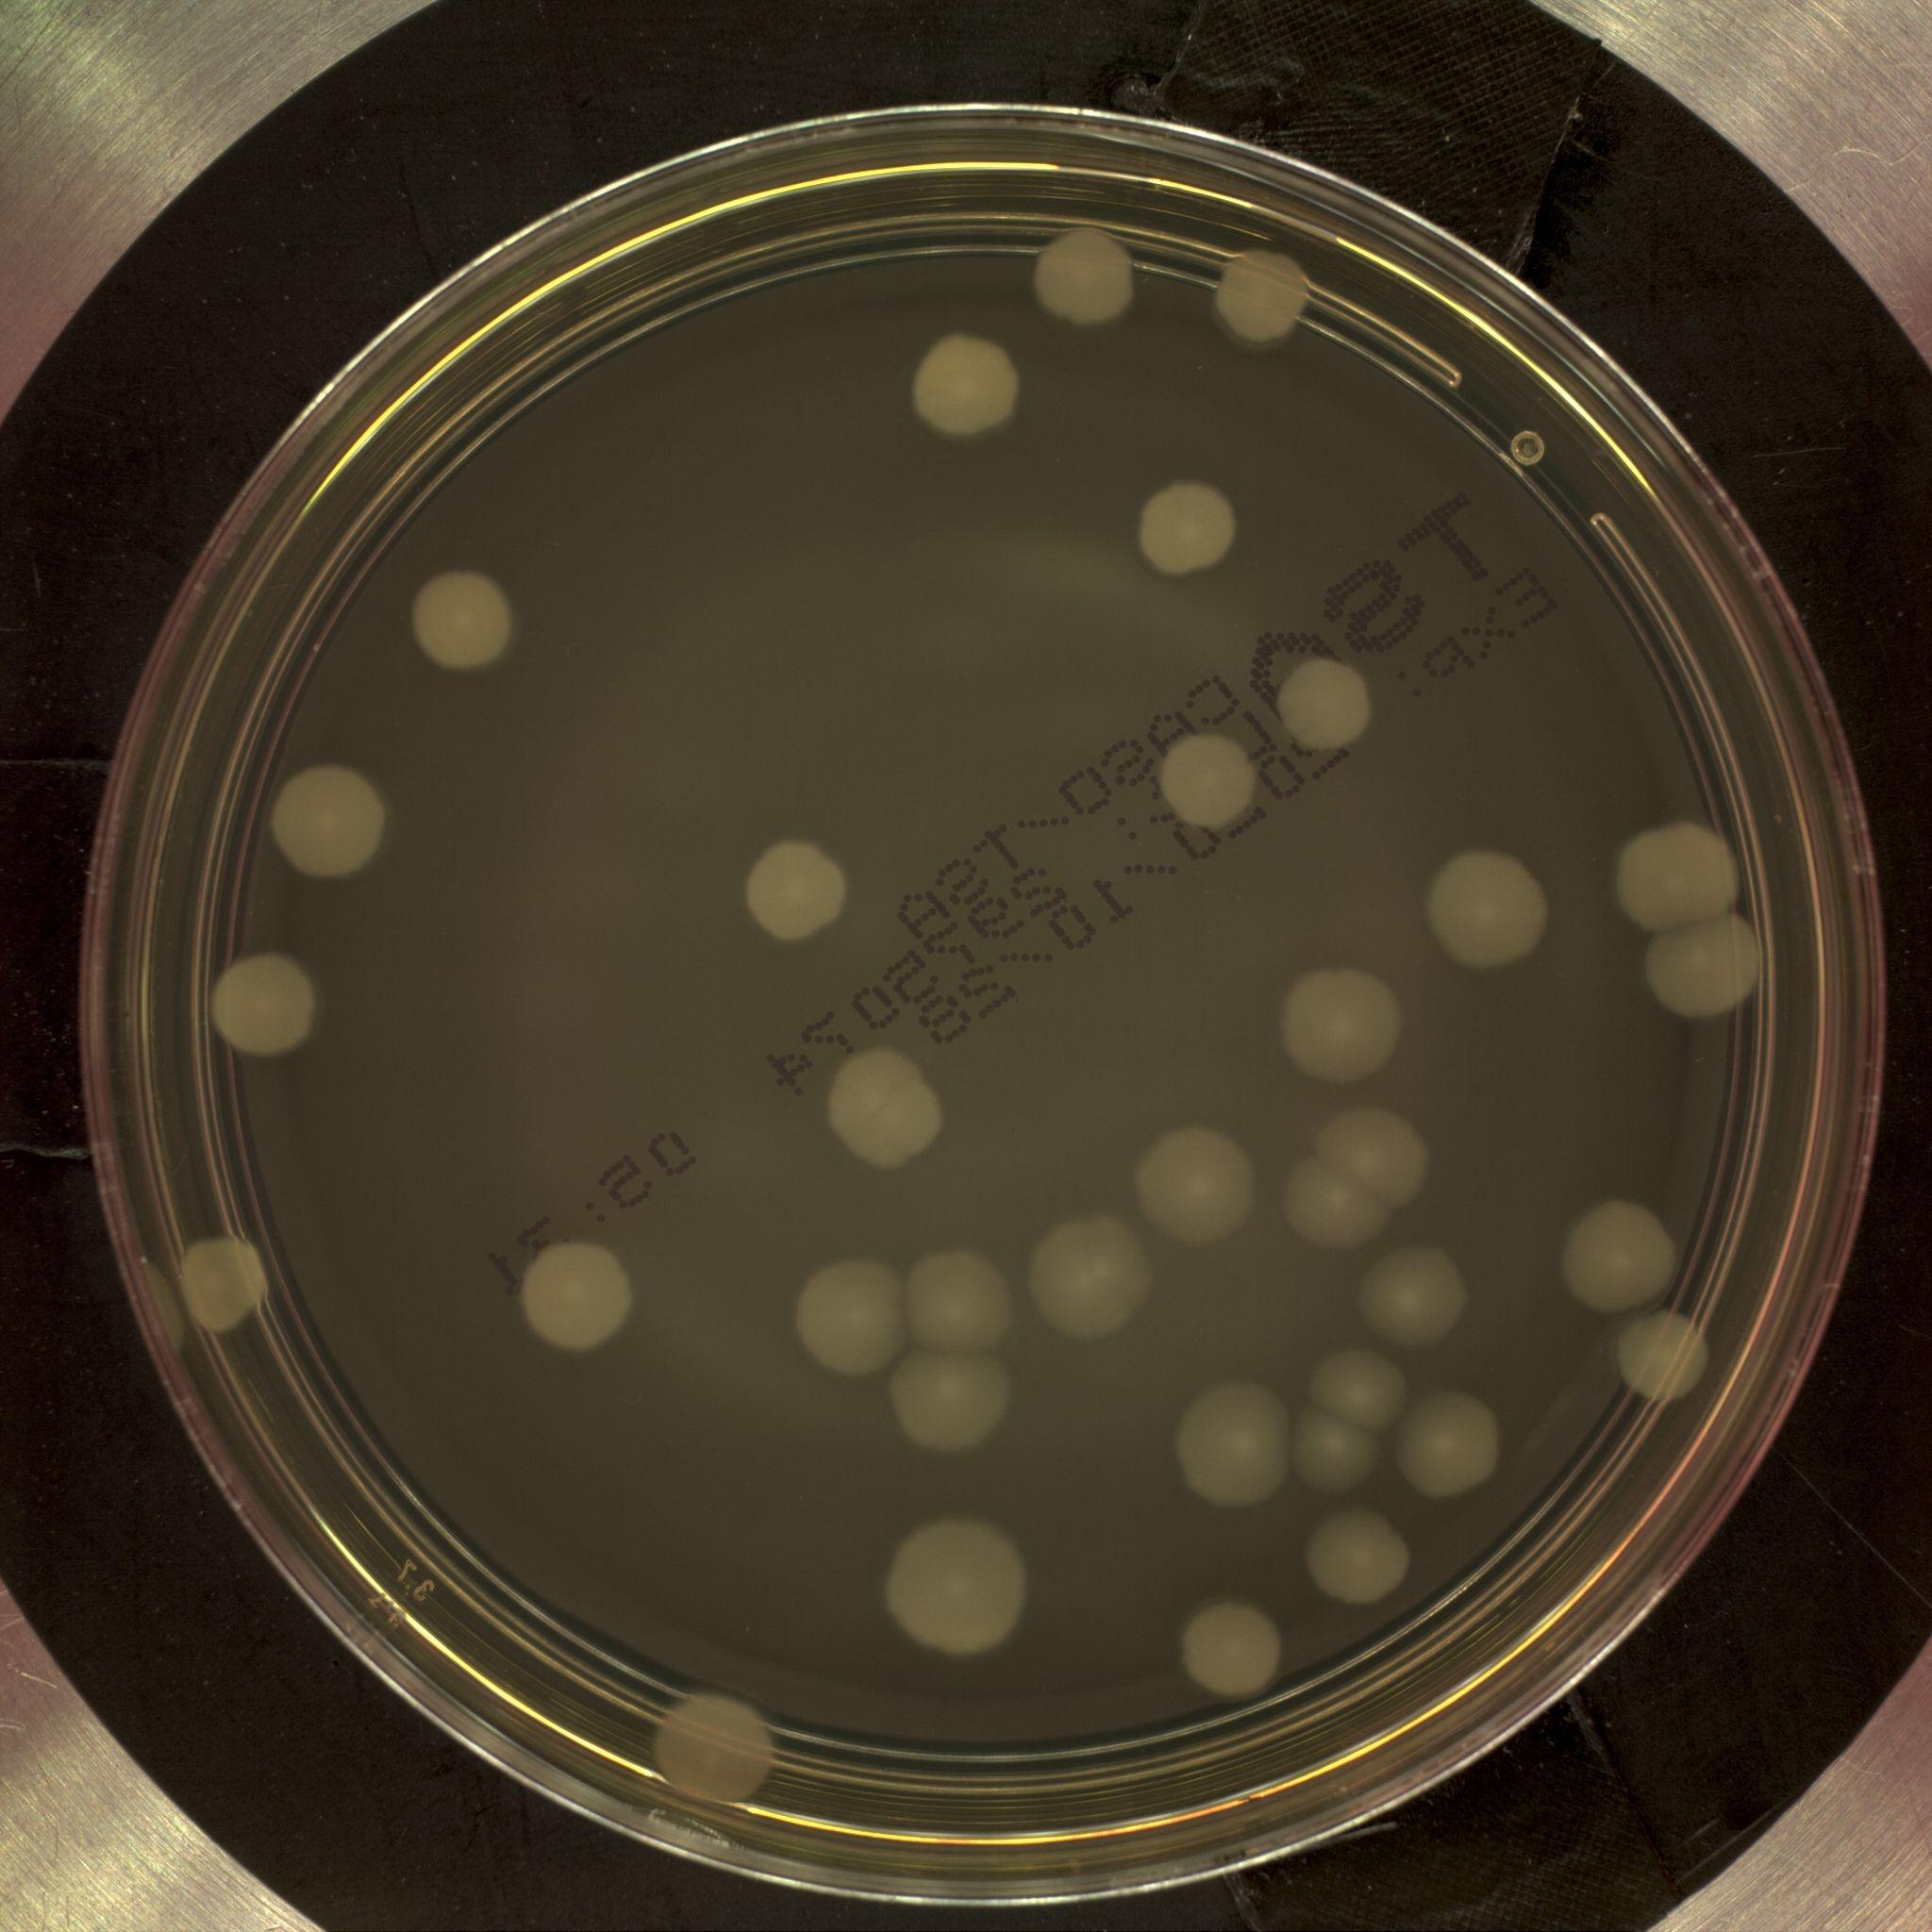e. coli: (885, 1524, 1028, 1656), (818, 1047, 958, 1179), (270, 764, 403, 891), (1428, 846, 1561, 969), (888, 1333, 1017, 1456), (1277, 969, 1413, 1082), (1139, 1129, 1262, 1248), (652, 1693, 781, 1807), (1614, 821, 1740, 937), (1036, 1220, 1155, 1340), (1185, 1385, 1295, 1507), (800, 1252, 903, 1377), (1561, 1201, 1676, 1311), (742, 833, 854, 943), (903, 1252, 1014, 1361), (1318, 1107, 1439, 1205), (526, 1239, 633, 1349), (1362, 1248, 1470, 1352), (407, 573, 517, 673), (1648, 918, 1759, 1016), (208, 953, 313, 1057), (1032, 226, 1140, 327), (1400, 1393, 1501, 1500), (913, 333, 1016, 437), (1136, 478, 1243, 575), (1309, 1509, 1410, 1608), (1179, 1604, 1284, 1698), (1155, 729, 1259, 824), (1291, 1158, 1396, 1248), (174, 1236, 275, 1330), (1277, 660, 1378, 752), (1617, 1308, 1712, 1403), (1286, 1398, 1378, 1491), (1222, 248, 1311, 342), (1312, 1354, 1406, 1432)
